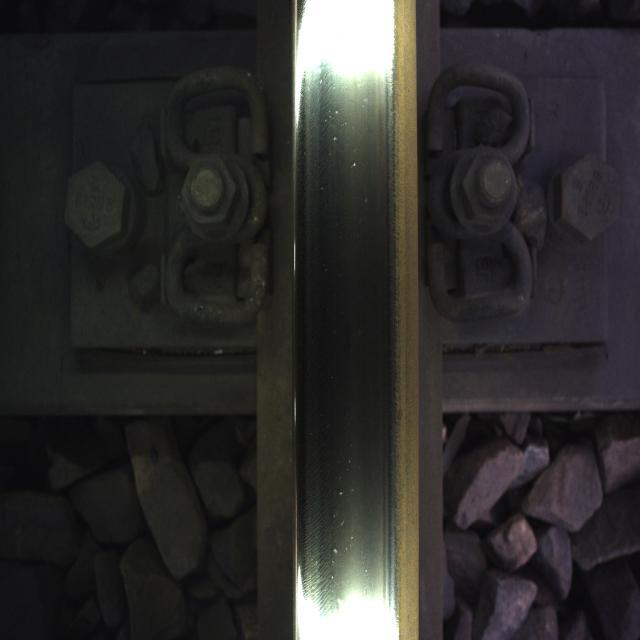normal: (301, 48, 381, 612)
